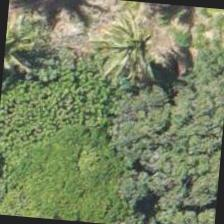Kelapa_Sawit: (82, 0, 180, 94)
